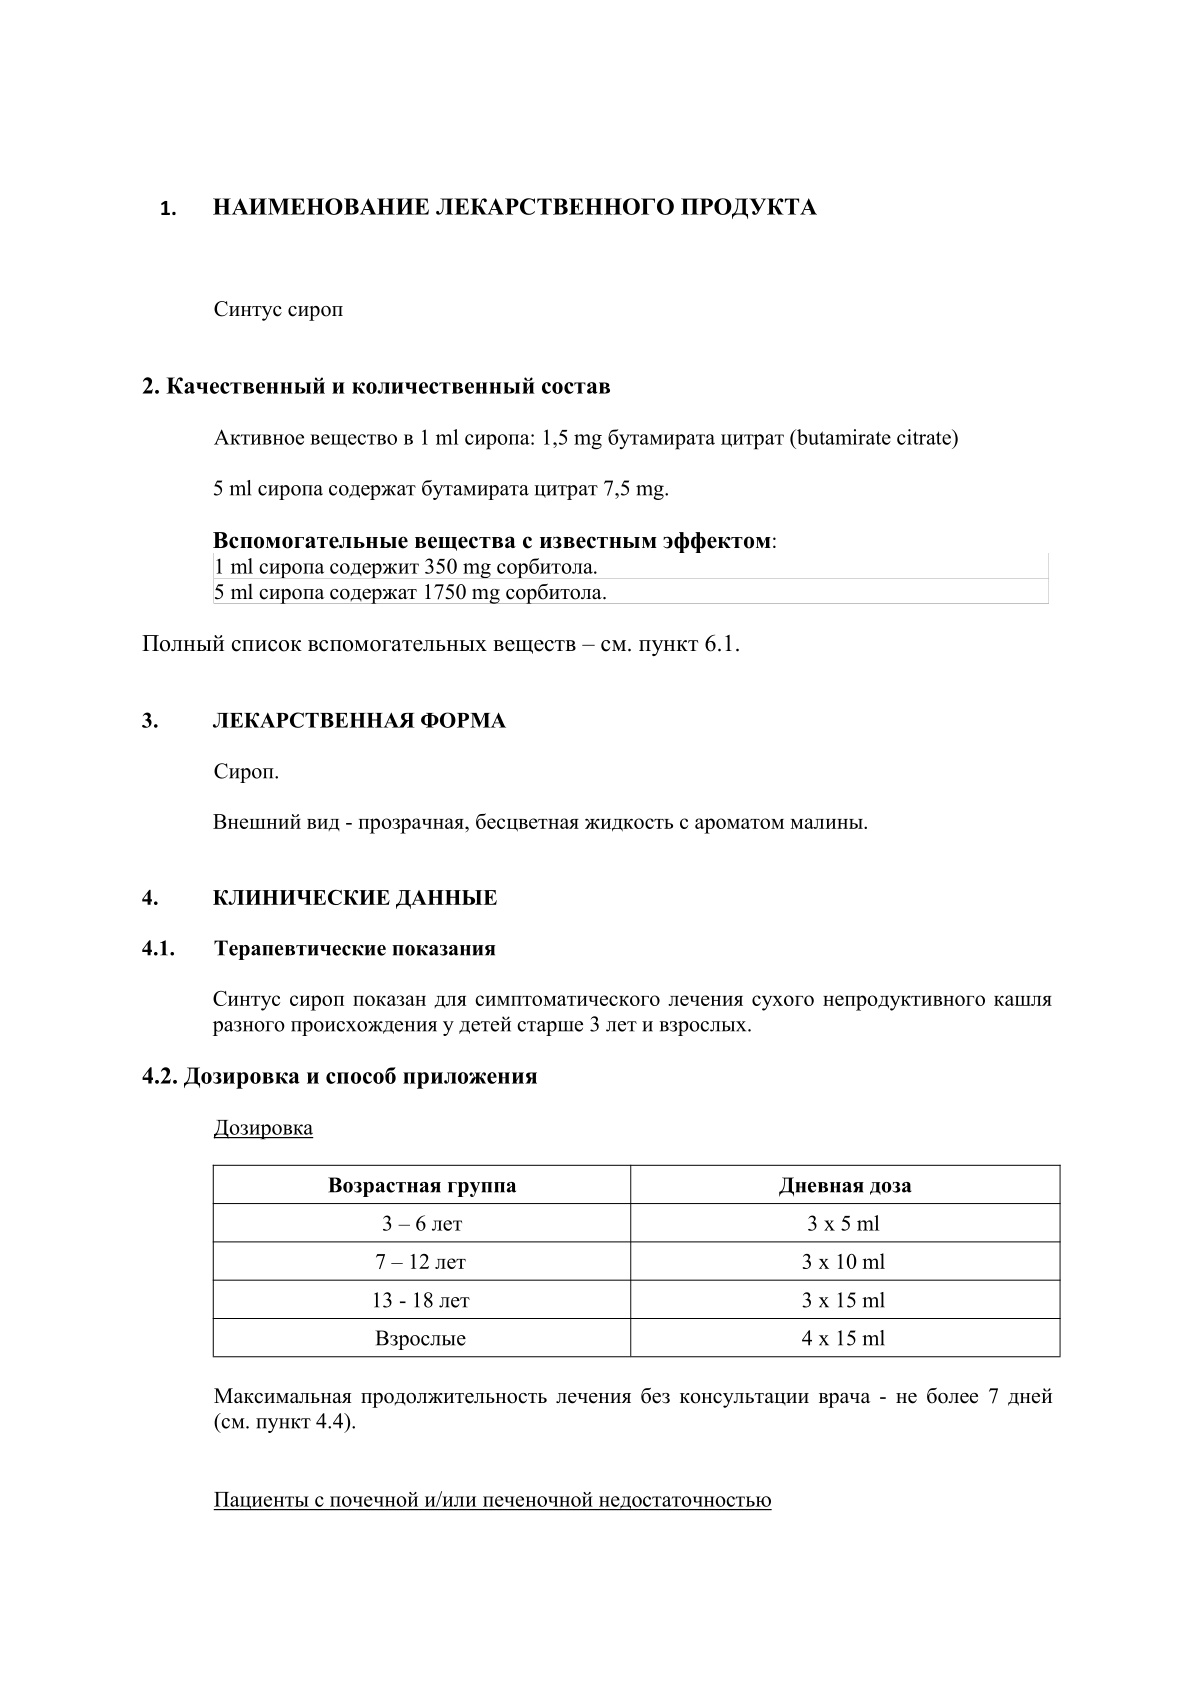full_lined: (211, 1162, 1063, 1361)
